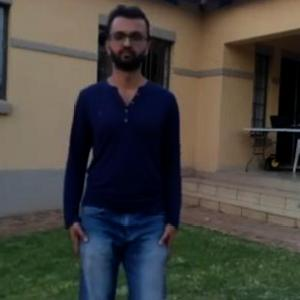follow: (76, 18, 185, 299)
